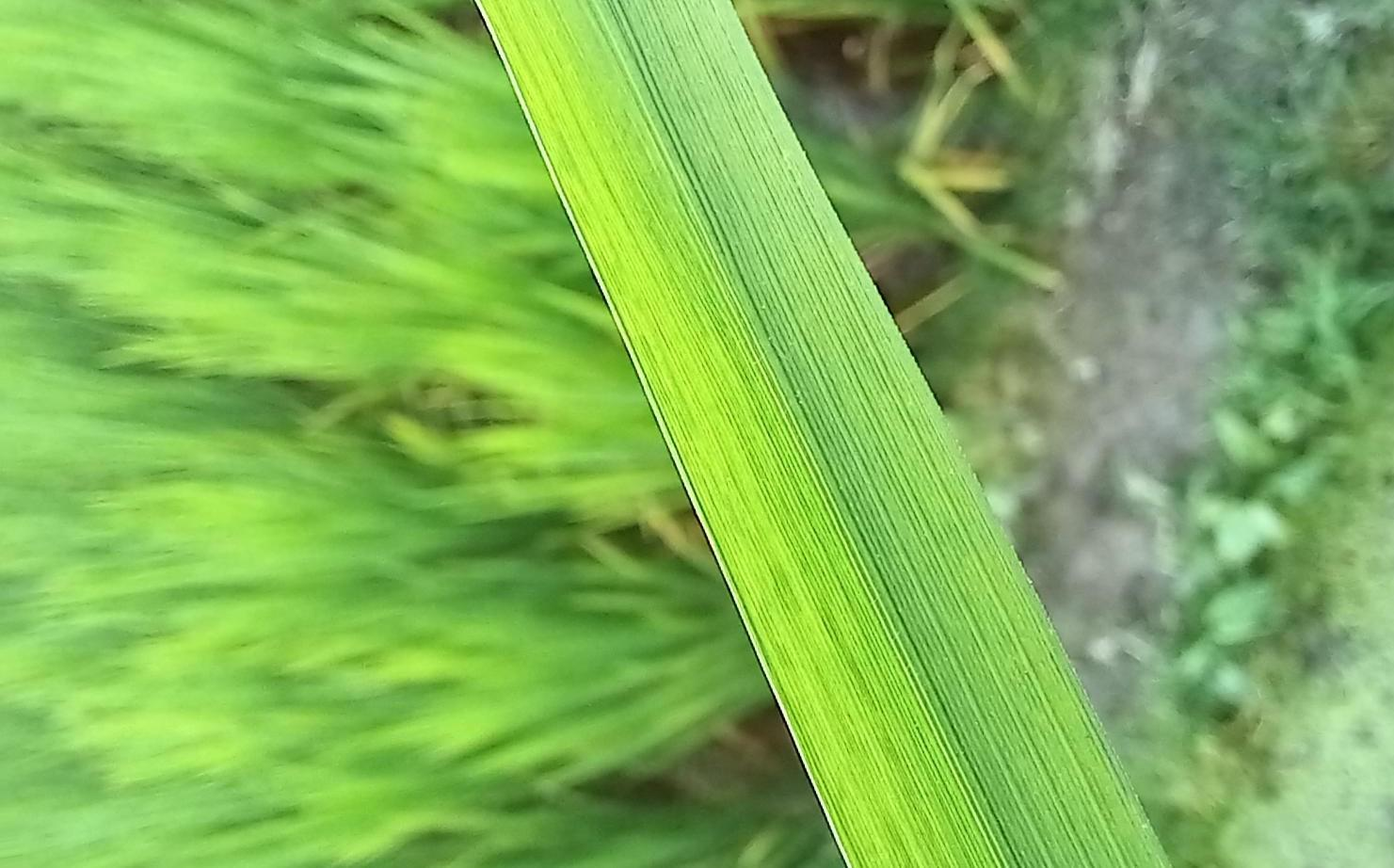Healthy: (479, 1, 1171, 867)
